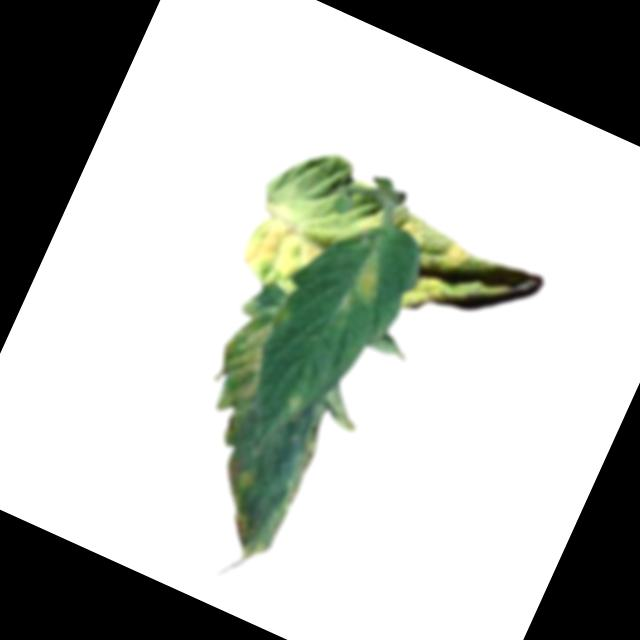Leaf_Mold: (365, 206, 527, 343), (200, 288, 295, 419), (233, 203, 327, 298), (214, 444, 266, 503), (345, 245, 392, 307), (224, 508, 261, 549)
